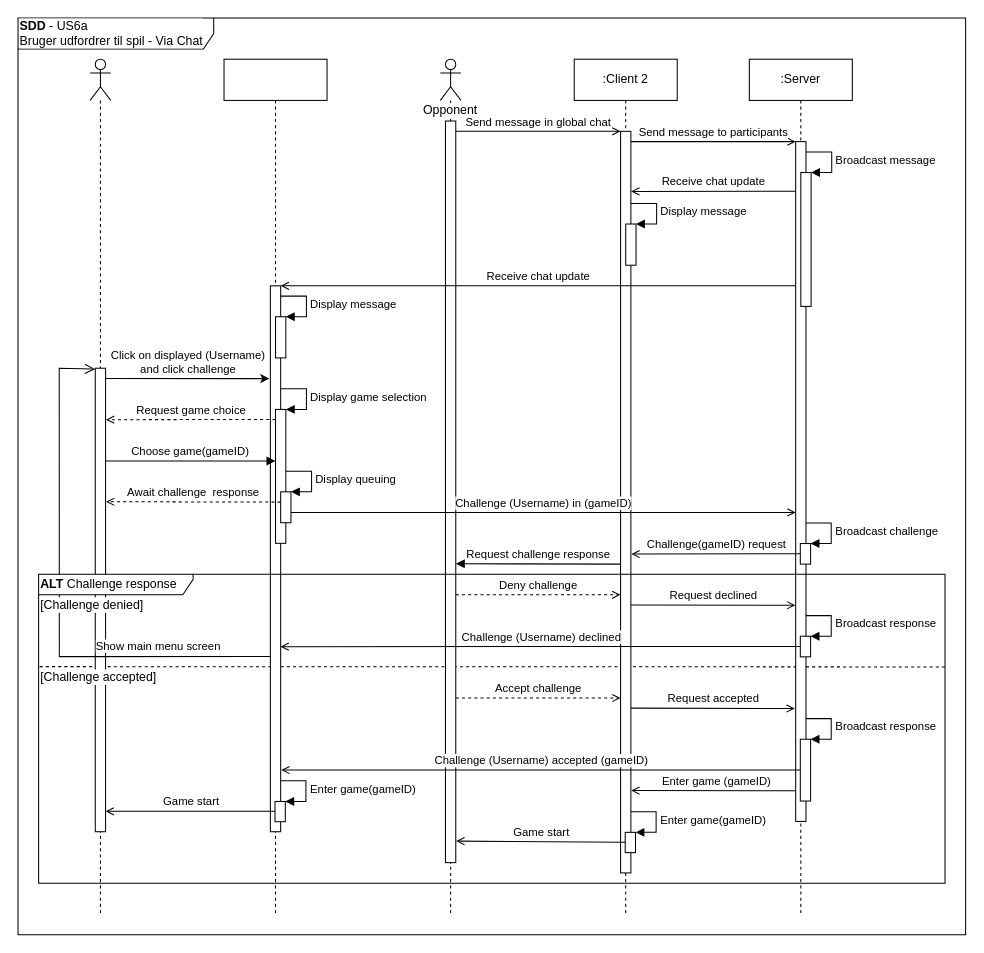
Image size: 984x953. Some labels were removed from this diagram. The shapes that lost their labels are listed below. From the top down, each one's box as (x1, y1, x2, y2) in pixels, then its label:
(89, 58, 111, 914): User
(223, 58, 327, 914): :Client 1
